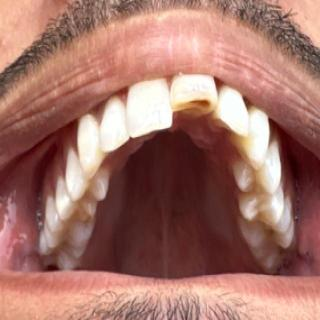UL1BC_healthy: (232, 142, 282, 193)
UL1M_sdecay: (241, 216, 293, 248)
UL2BC_healthy: (238, 193, 284, 226)
ULCI_sdecay: (171, 75, 217, 115)
ULC_healthy: (232, 106, 270, 169)
ULLI_healthy: (217, 85, 250, 137)
UR1BC_healthy: (65, 147, 108, 201)
UR1M_healthy: (43, 197, 92, 249)
UR2BC_healthy: (55, 177, 97, 220)
URCI_healthy: (126, 79, 172, 138)
URC_healthy: (77, 114, 106, 178)
URLI_healthy: (99, 96, 129, 152)
